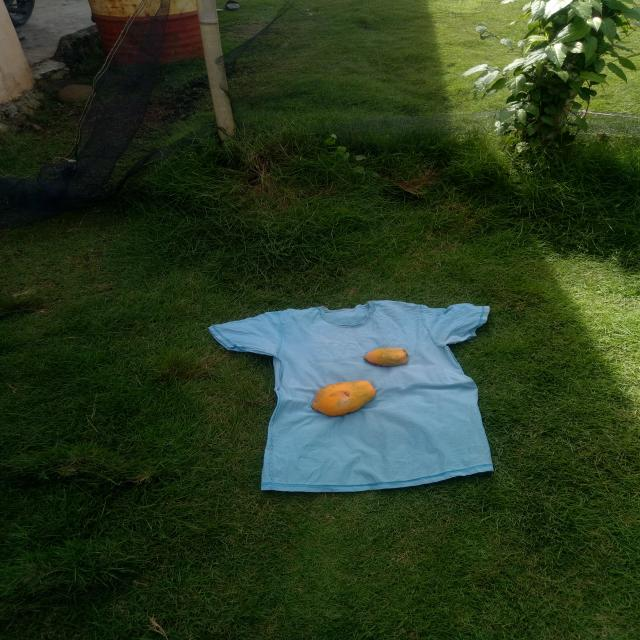Pepaya rippen: (310, 380, 372, 418), (363, 338, 414, 368)
